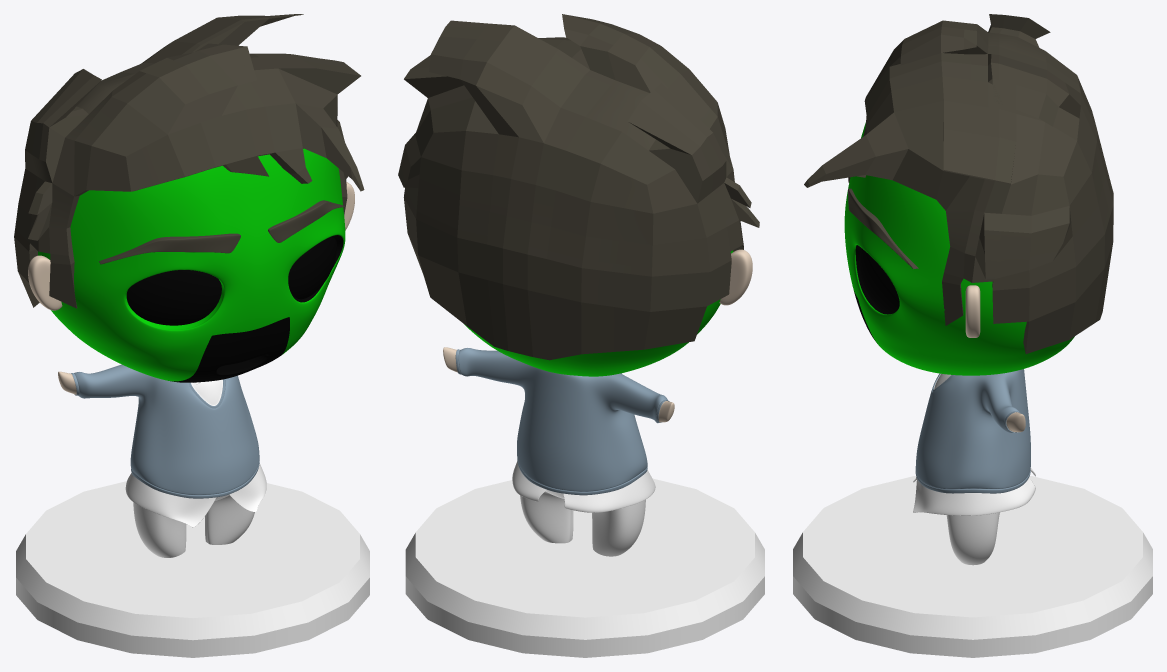
File: Carlo_3D_print.fbx
3 views of the same model, side by side, from view 1: azimuth 30°, elevation 25°; view 2: azimuth 150°, elevation 25°; view 3: azimuth 270°, elevation 25° (orthographic).
Visible parts, largest first — view 1: Hair, pCylinder1, Head, Body, Eye1, UnderShirt, Eye, Eyebrow1, Eyebrow, Ear1; view 2: Hair, pCylinder1, Body, Head, UnderShirt, Ear1; view 3: Hair, pCylinder1, Head, Body, UnderShirt, Eye, Eyebrow, Ear.
Boxes of the visible parts, <box> form: Hair: <box>14,14,364,308</box>; pCylinder1: <box>16,481,369,657</box>; Head: <box>38,148,345,382</box>; Body: <box>58,364,259,557</box>; Eye1: <box>126,270,221,325</box>; UnderShirt: <box>125,463,266,527</box>; Eye: <box>288,237,336,299</box>; Eyebrow1: <box>99,233,240,264</box>; Eyebrow: <box>268,200,345,242</box>; Ear1: <box>28,255,62,310</box>; Hair: <box>398,14,759,360</box>; pCylinder1: <box>405,478,764,657</box>; Body: <box>443,347,674,556</box>; Head: <box>464,250,733,376</box>; UnderShirt: <box>512,461,655,512</box>; Ear1: <box>719,249,752,305</box>; Hair: <box>804,14,1113,353</box>; pCylinder1: <box>793,476,1152,657</box>; Head: <box>844,122,1074,375</box>; Body: <box>915,369,1030,565</box>; UnderShirt: <box>913,468,1035,515</box>; Eye: <box>859,248,899,314</box>; Eyebrow: <box>848,188,918,269</box>; Ear: <box>965,285,980,337</box>.
Bounding box in the file's own units: 113 × 176 × 105.
